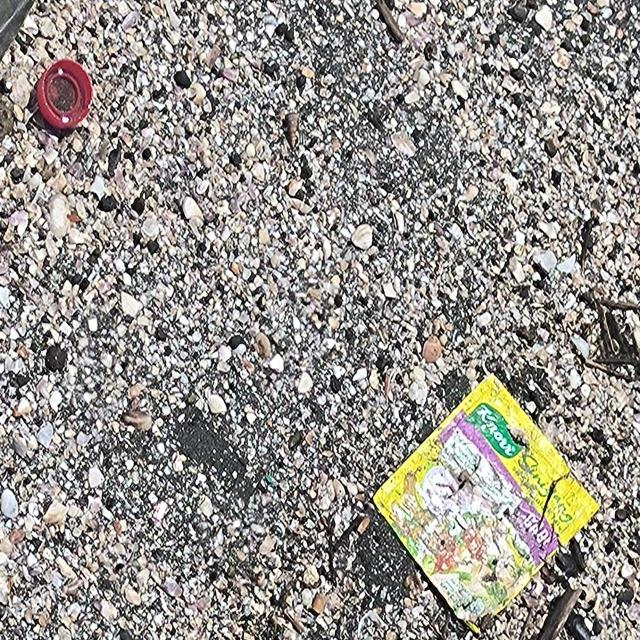plastic_waste: (373, 371, 604, 637), (36, 58, 94, 132)
